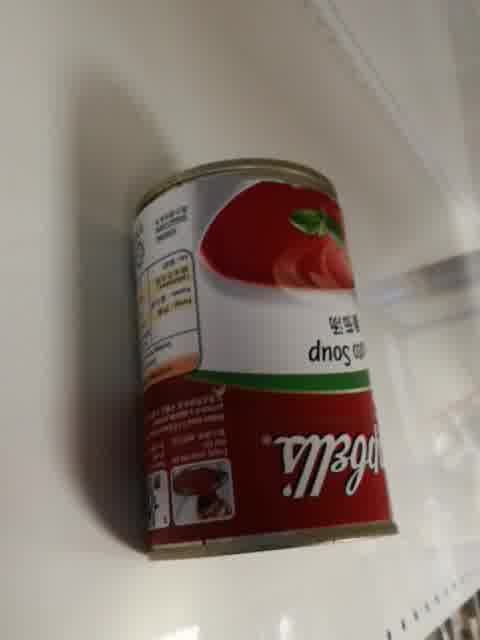tomatosoup: (127, 152, 399, 564)
